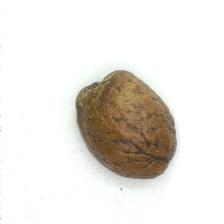NG: (119, 120, 174, 175), (74, 72, 119, 108)
